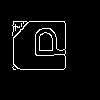P: (25, 25, 72, 60)
